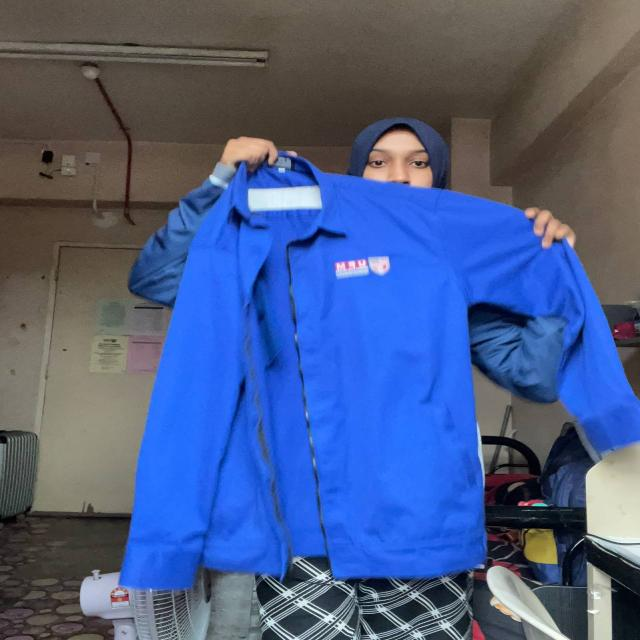person_without_labcoat: (124, 118, 639, 640)
